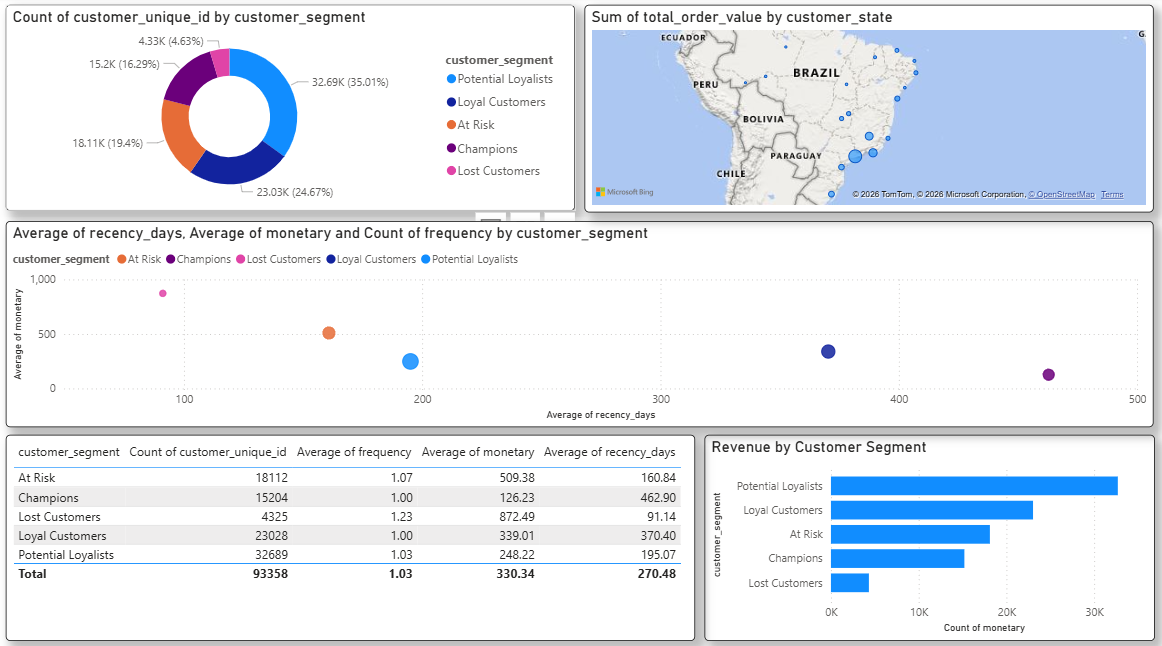

The dashboard page shown, as its layout file describes it:
{"tool":"powerbi","page":{"name":"Page 3","canvas":[1280,720],"ordinal":2},"visuals":[{"type":"donutChart","fields":{"Category":["rfm_final.customer_segment"],"Y":["CountNonNull(rfm_final.customer_unique_id)"]},"box":[10,10,625,226],"z":0},{"type":"clusteredBarChart","title":"Revenue by Customer Segment","fields":{"Category":["rfm_final.customer_segment"],"Y":["CountNonNull(rfm_final.monetary)"]},"box":[776,482,494,226],"z":1000},{"type":"scatterChart","fields":{"X":["rfm_final.recency_days"],"Y":["rfm_final.monetary"],"Size":["CountNonNull(rfm_final.frequency)"],"Series":["rfm_final.customer_segment"]},"box":[10,246.7,1260,226.7],"z":2000},{"type":"tableEx","fields":{"Values":["rfm_final.customer_segment","rfm_final.customer_unique_id","rfm_final.frequency","rfm_final.monetary","rfm_final.recency_days"]},"box":[10,482,756.7,226],"z":3000},{"type":"map","fields":{"Size":["Sum(master_orders.total_order_value)"],"Category":["master_orders.customer_state"]},"box":[645,10,625,228.3],"z":4000}]}

Visuals, with their boxes in screenshot pixels (x1, y1, x2, y2), scaled from the page's 1280x720 canvas onto the 1162x646 screenshot:
donutChart - rfm_final.customer_segment x CountNonNull(rfm_final.customer_unique_id): 9/9/576/212
"Revenue by Customer Segment" clusteredBarChart: 704/432/1153/635
scatterChart - rfm_final.recency_days x rfm_final.monetary: 9/221/1153/425
tableEx - rfm_final.customer_segment x rfm_final.customer_unique_id: 9/432/696/635
map - Sum(master_orders.total_order_value) x master_orders.customer_state: 586/9/1153/214
